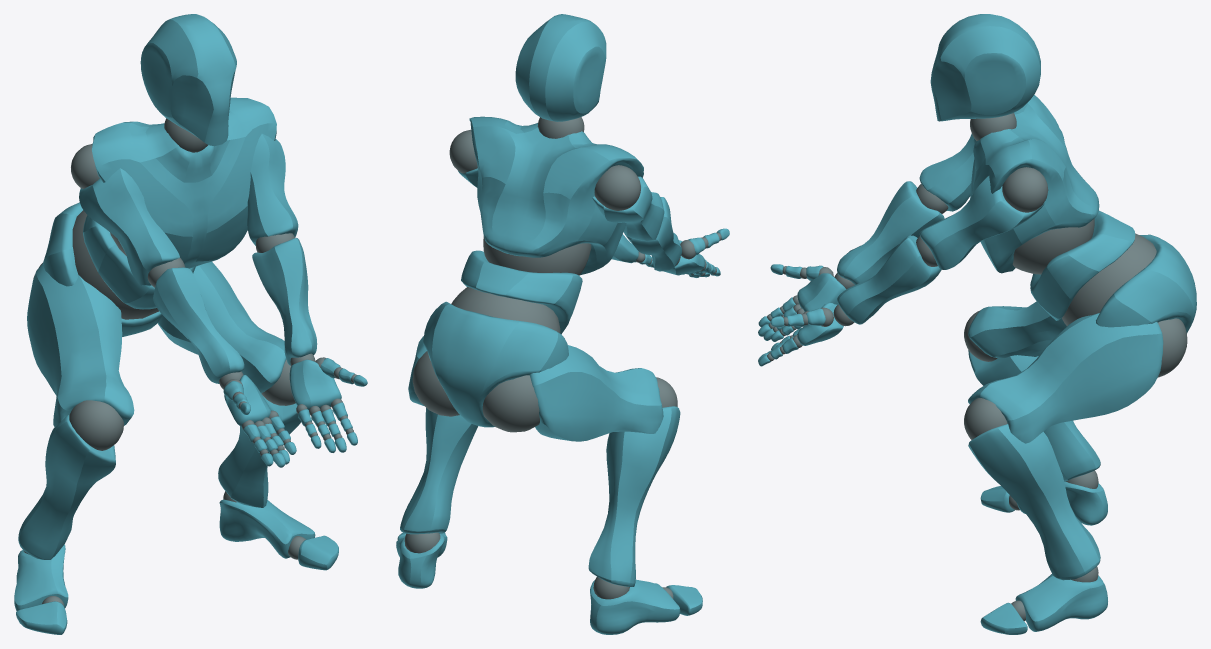
Rendered from YBot_BumpPose.fbx.
3 renders of one model, left to right at view 1: azimuth 30°, elevation 25°; view 2: azimuth 150°, elevation 25°; view 3: azimuth 270°, elevation 25°, orthographic. The views are drawn at different scales.
Parts seen in each view (by area): view 1: Alpha_Surface, Alpha_Joints; view 2: Alpha_Surface, Alpha_Joints; view 3: Alpha_Surface, Alpha_Joints.
Part boxes in pixels (bbox=[...]): Alpha_Surface: bbox=[14, 14, 367, 634]; Alpha_Joints: bbox=[23, 118, 356, 606]; Alpha_Surface: bbox=[396, 14, 729, 634]; Alpha_Joints: bbox=[404, 117, 721, 599]; Alpha_Surface: bbox=[758, 14, 1196, 634]; Alpha_Joints: bbox=[767, 113, 1187, 621].
Bounding box in the file's own units: 77.45 × 138 × 99.57.
